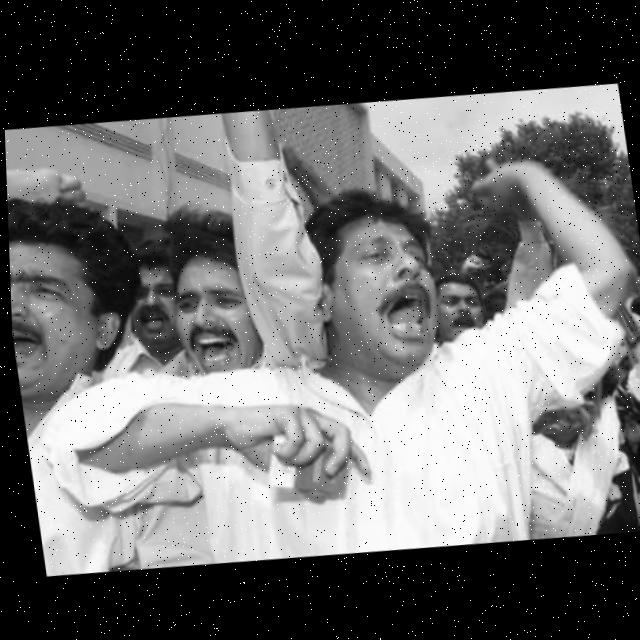face: (307, 193, 456, 381), (8, 199, 125, 408), (162, 227, 275, 388), (110, 226, 192, 365), (428, 269, 494, 348)
